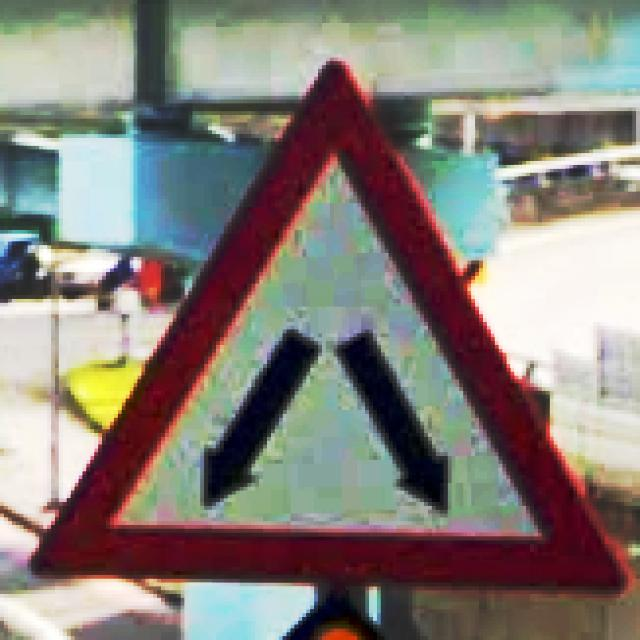diverge: (28, 54, 628, 594)
